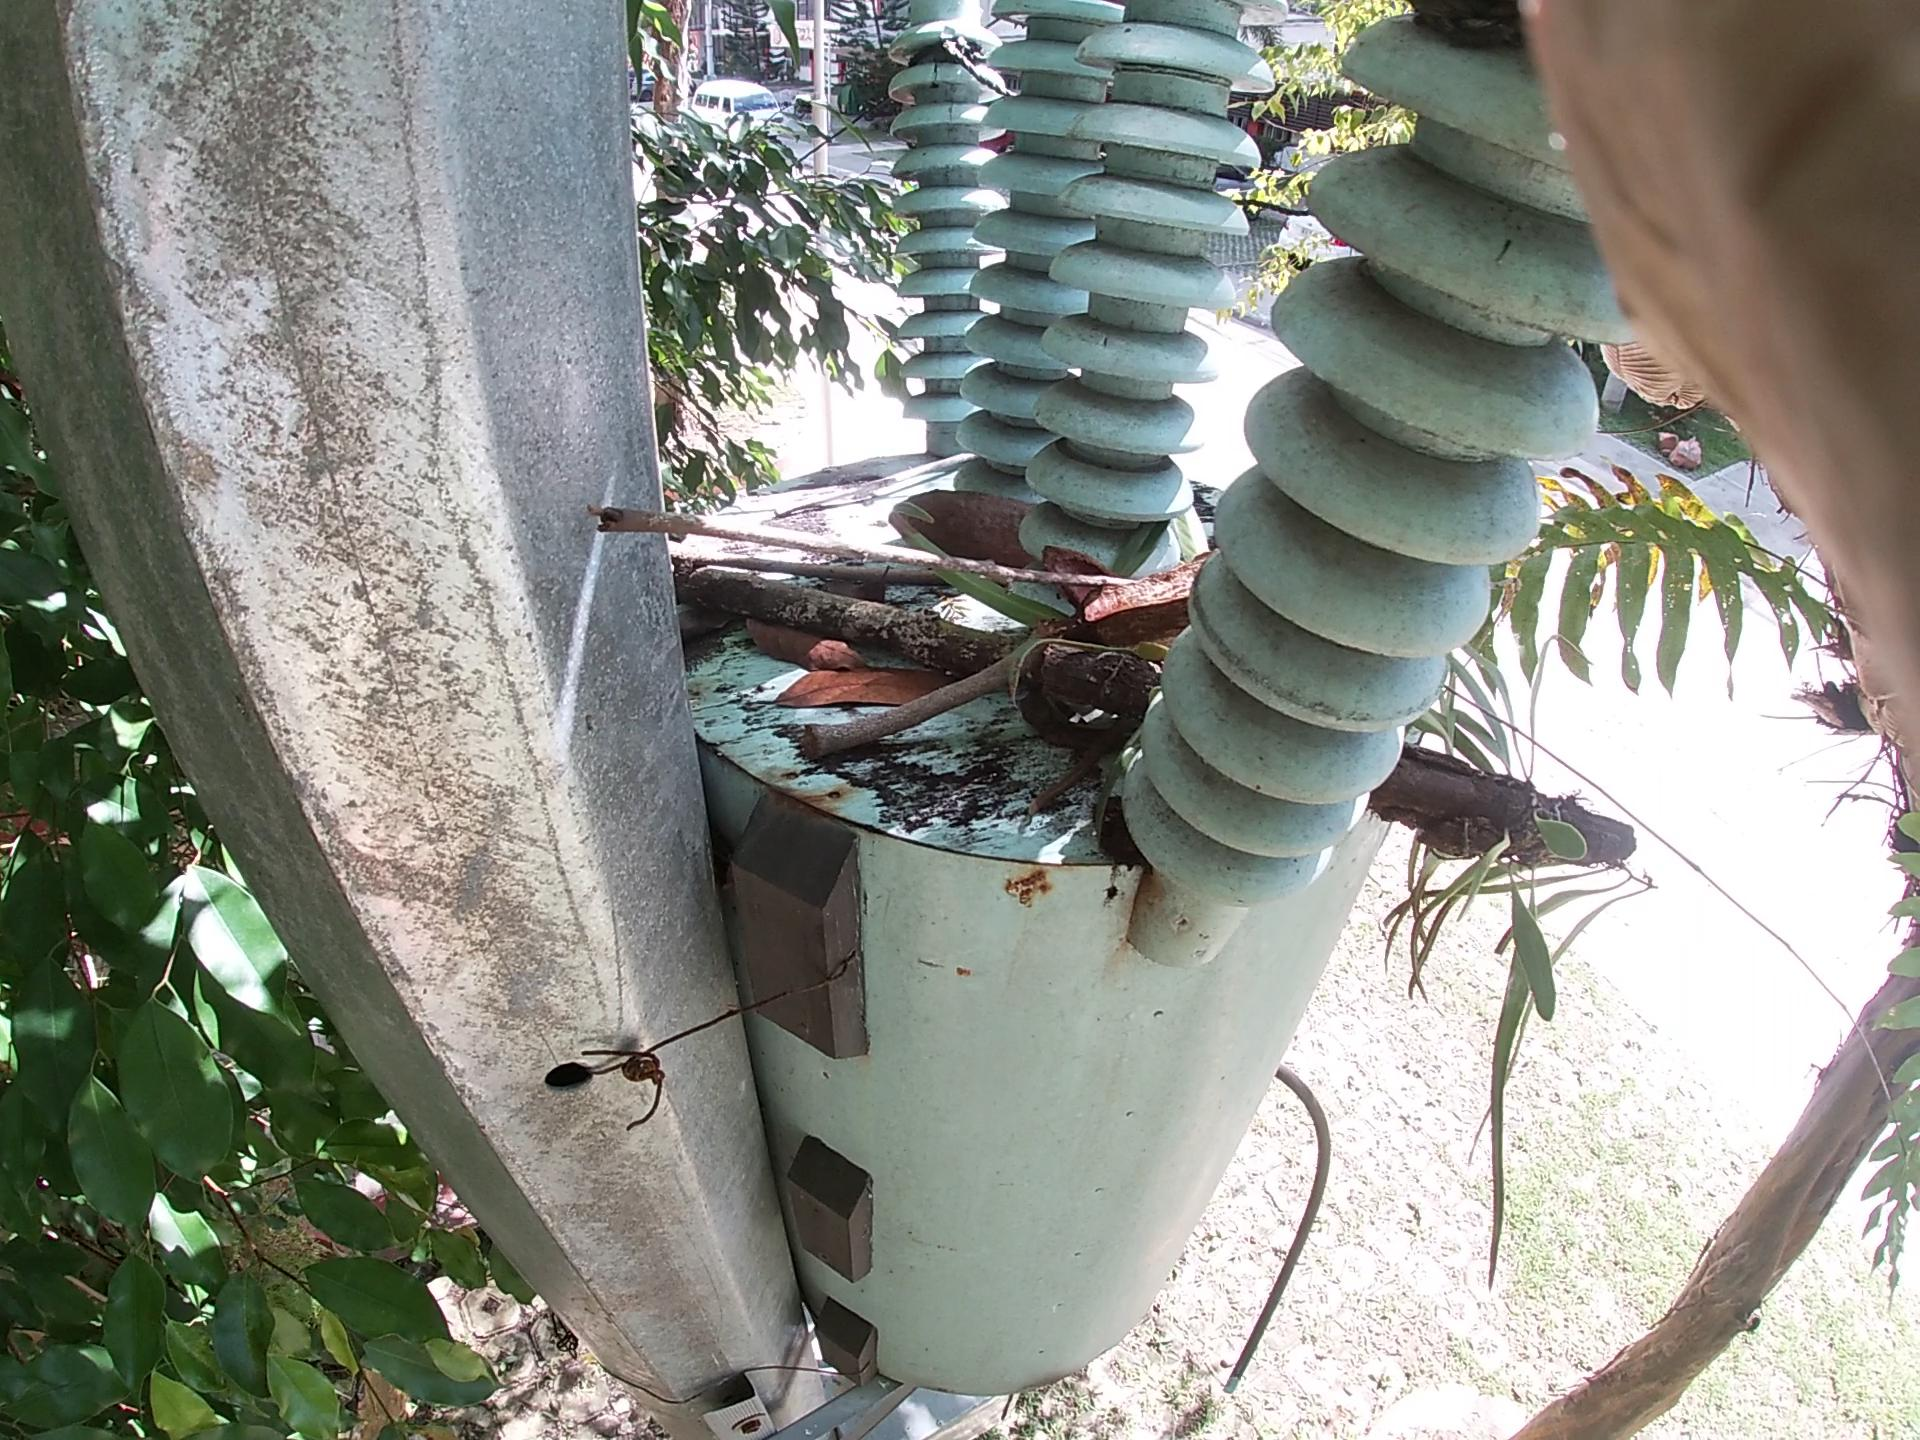branch with leaves: (685, 531, 1654, 945)
leaf: (735, 602, 962, 784)
mahogany fruit: (872, 449, 1290, 588), (1034, 563, 1323, 646)
tree branch: (612, 495, 1152, 646), (812, 620, 1138, 805)
